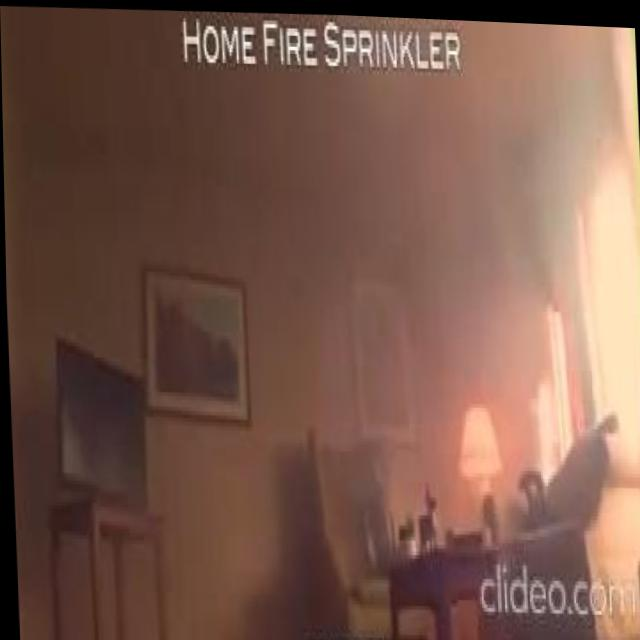fire: (527, 297, 571, 478)
